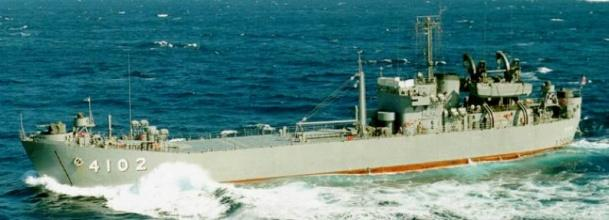Cargoship: (15, 18, 586, 186)
